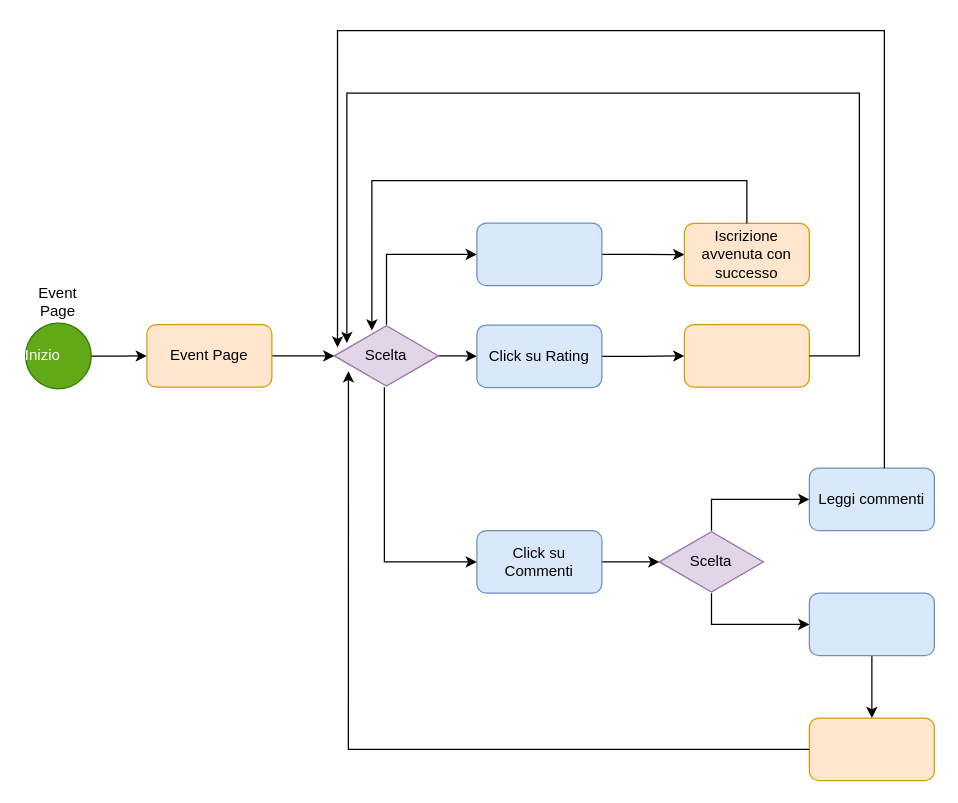
This 958x803 diagram has some shape labels left out. Here are the shapes that lost their labels. From the top down, the centre of each, then its label:
pixel 539 254: Click su Subscribe
pixel 746 355: Rating avvenuto con successo
pixel 871 624: Commenta
pixel 871 749: Commento avvenuto con successo
